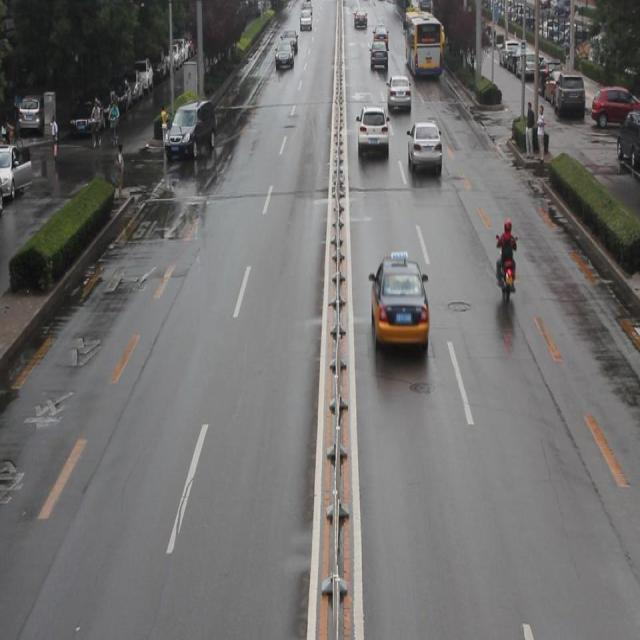car: (370, 258, 427, 346), (355, 104, 390, 159), (407, 121, 440, 178)
truck: (166, 101, 214, 160)
